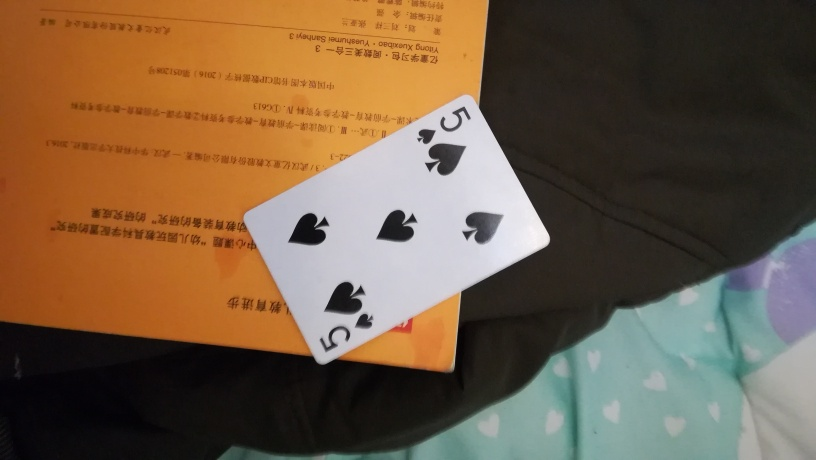ht 5: (238, 93, 554, 369)
